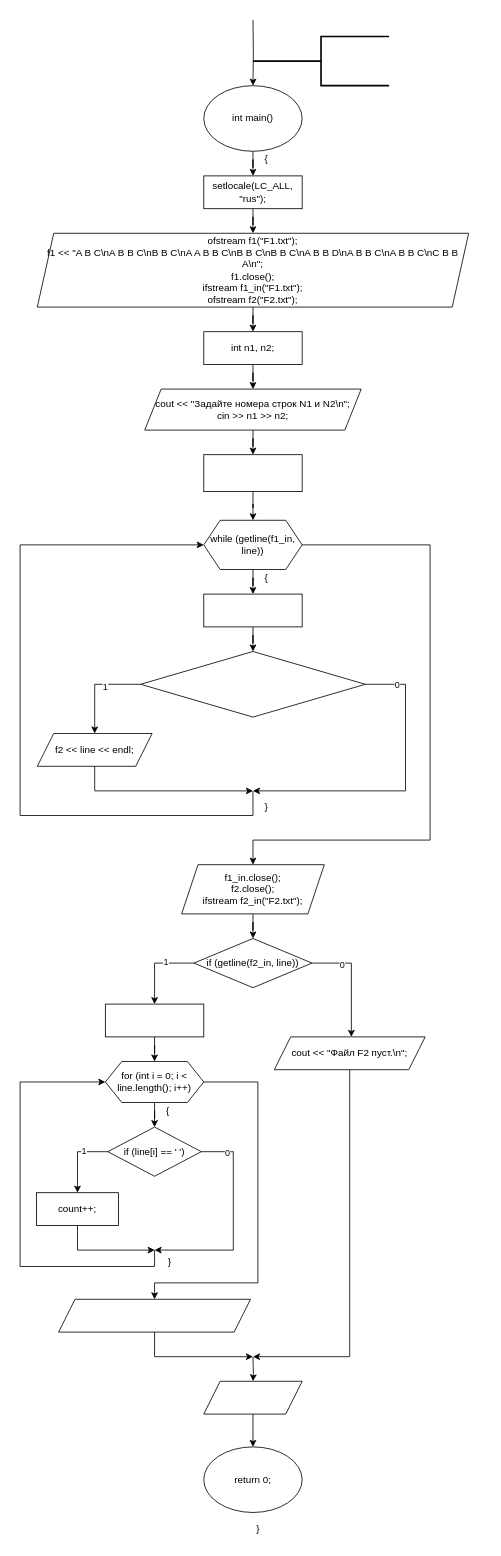
Some shapes in this 501 by 1556 pixel diagram are drawn without their labels. Here are the shapes that lost their labels. From the top down, the centre of each, then its label:
point 321,60: #include <iostream> #include <fstream> #include <string> using namespace std;
point 252,473: int n = 0; string line;
point 252,610: n++;
point 252,684: if (n >= n1 && n <= n2 && line[0] == 'A' && line[line.length() - 1] == 'C')
point 154,1020: int count = 0;
point 154,1315: cout << "Кол-во слов в первой строке файла F2: " << count << ".\n";
point 252,1397: f2_in.close();
